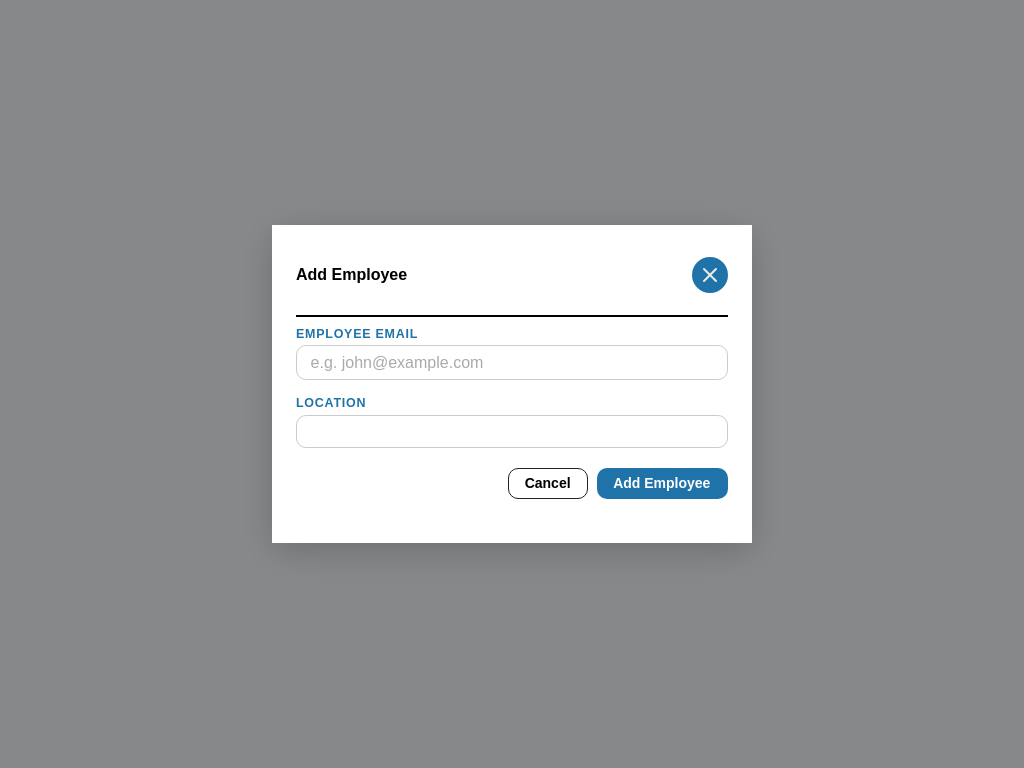
Scenario: AddEmployeeModal › close behaviour › resets the error message after closing
Type "john@example.com" into the field labelled "Employee Email" at (512, 362), box [296,345,728,380]
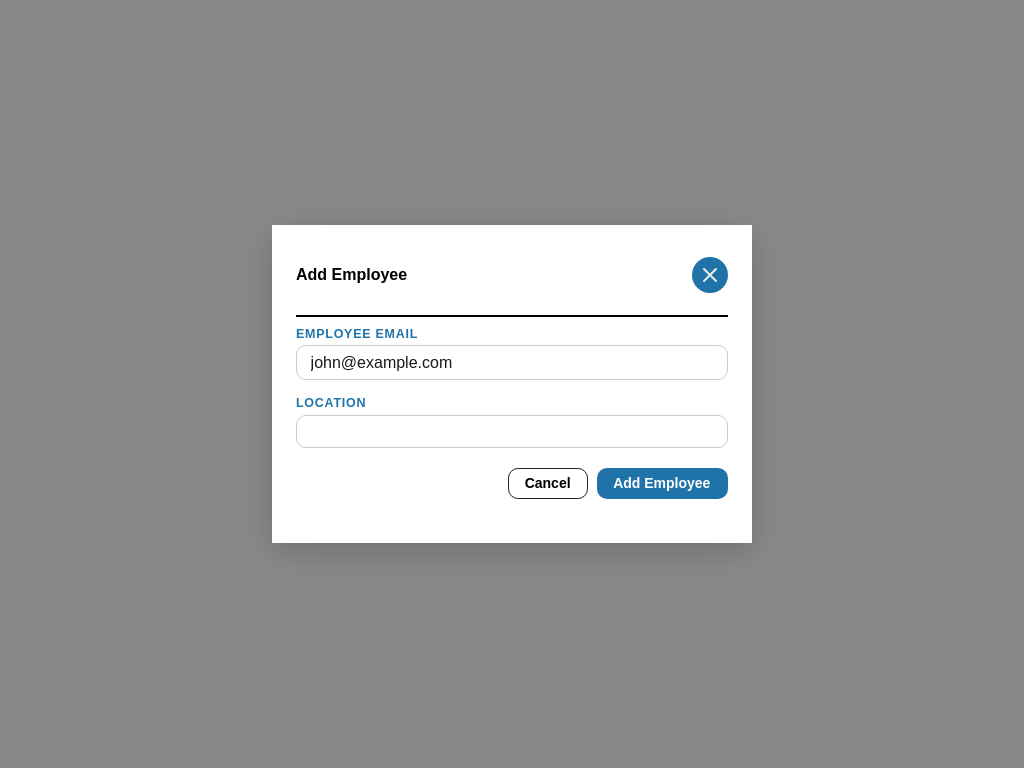
Click the button "Add Employee" at (663, 483), box [597,468,728,499]
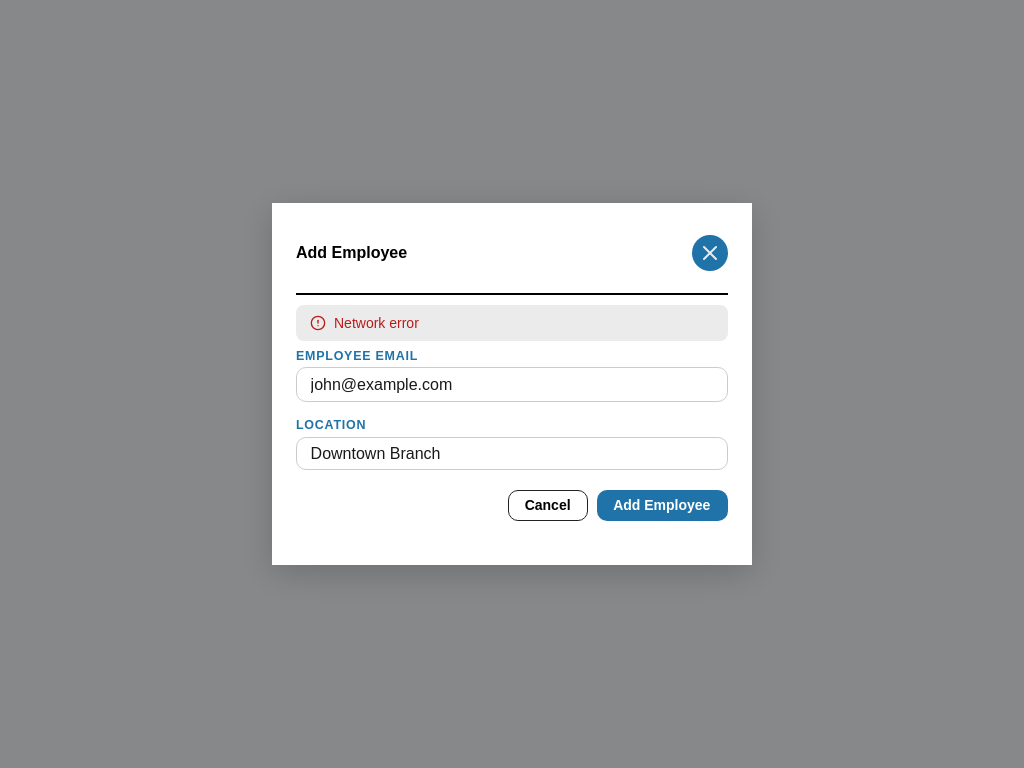
Expected: the text "Network error" is shown, [334,314,419,330]
Click the button "Cancel" at (548, 505), box [508,490,588,521]
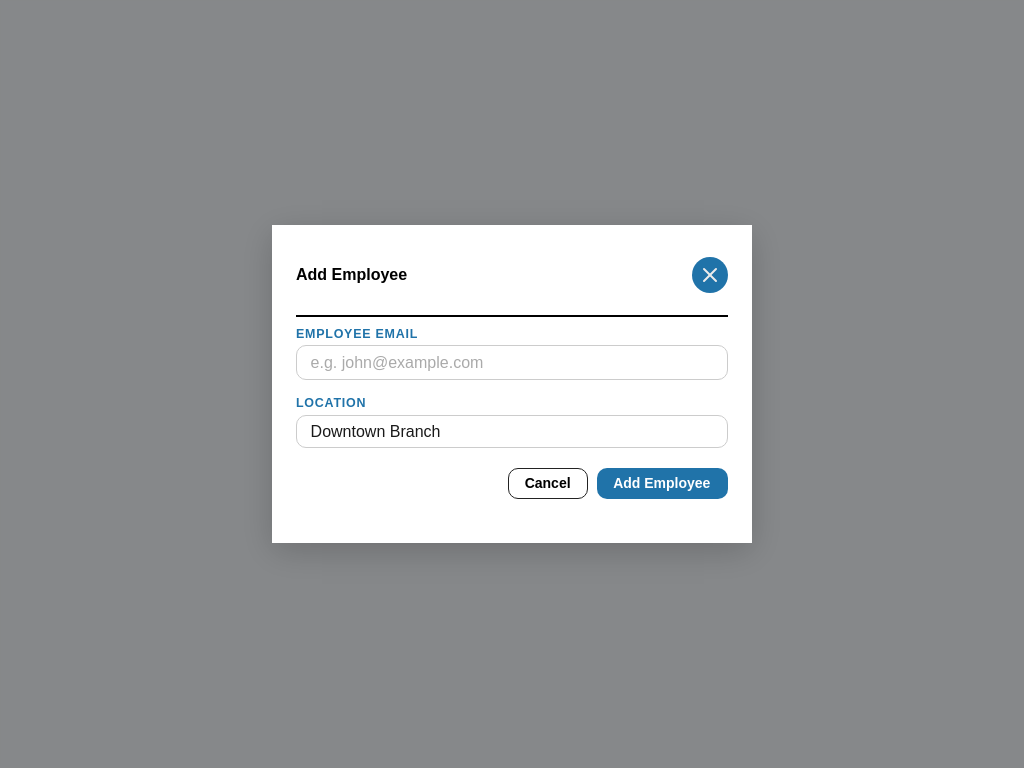
Expected: the text "Network error" is gone
